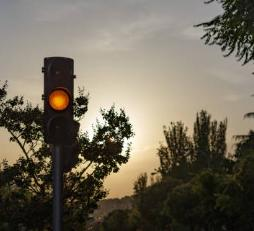yellow_light: (44, 56, 74, 144)
